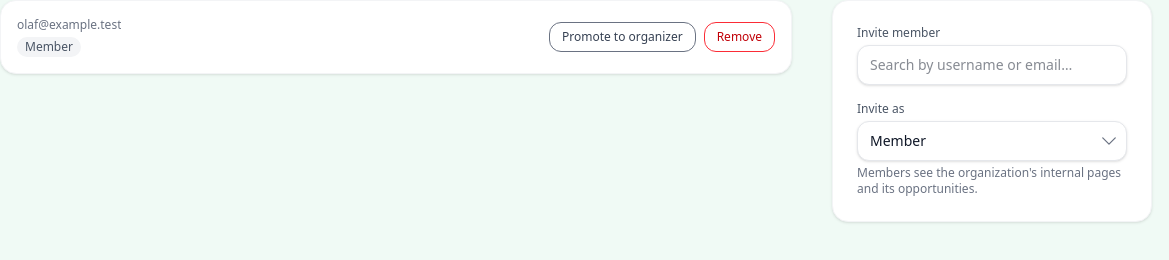
Test case: OrgMembersPage invite search › asks for more characters instead of rendering nothing at all
Type "ver" into the search field labelled "Invite member".
click(992, 65); type("ver")  # box [857,45,1127,85]
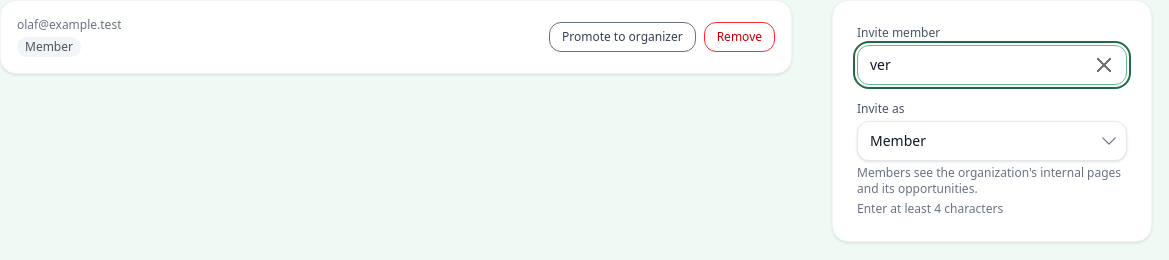
Now the text "Enter at least 4 characters" is shown, box [857,200,1003,217]
